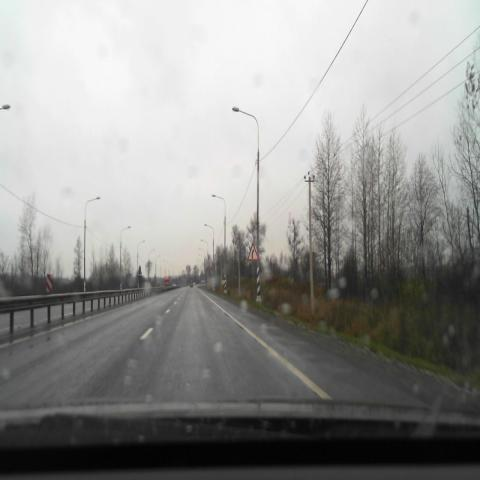1_11: (248, 243, 259, 261)
